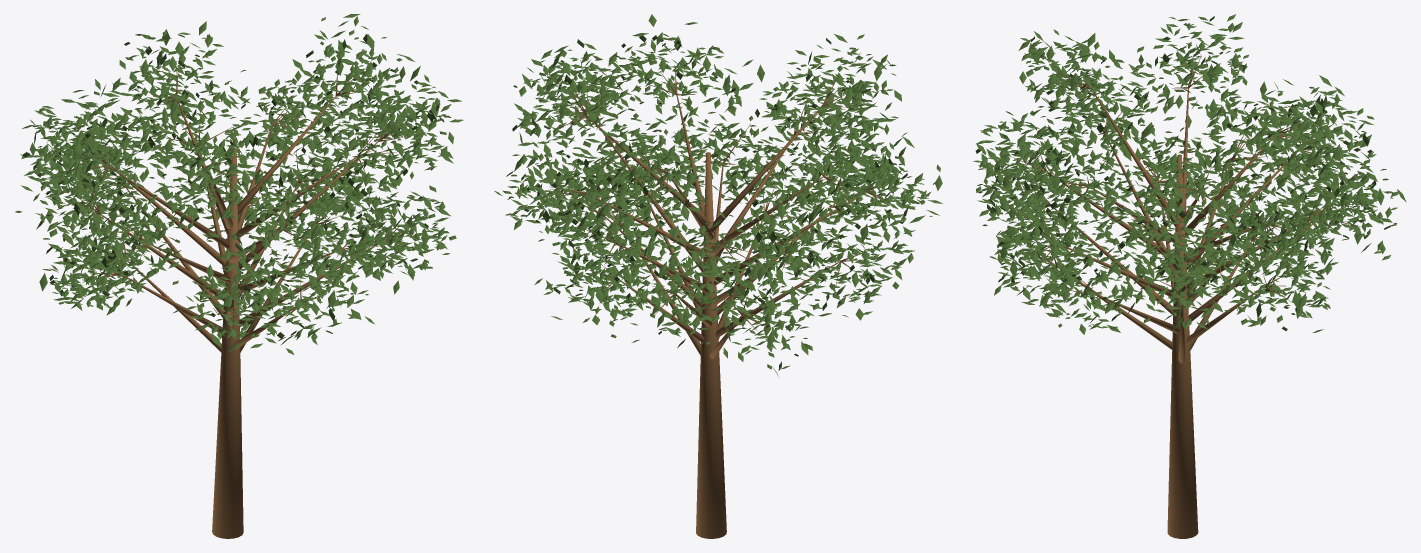
File: SM_Tree2.fbx
The picture shows the model from 3 angles, left to right: view 1: azimuth 30°, elevation 25°; view 2: azimuth 150°, elevation 25°; view 3: azimuth 270°, elevation 25°; orthographic projection.
Parts seen in each view (by area): view 1: SM_Tree2; view 2: SM_Tree2; view 3: SM_Tree2.
Boxes of the visible parts, x1,y1,x2,y2 form: SM_Tree2: (15, 14, 463, 538); SM_Tree2: (494, 14, 942, 538); SM_Tree2: (973, 14, 1406, 538).
Bounding box in the file's own units: 653 × 640 × 751.
